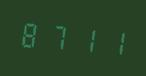eight: (18, 15, 44, 53)
one: (72, 20, 98, 58), (99, 22, 125, 60)
seven: (45, 17, 71, 55)
